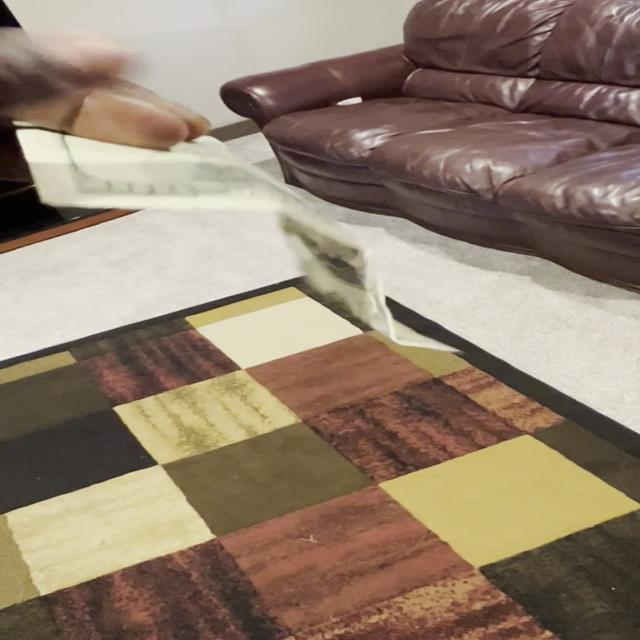hundred: (0, 69, 502, 367)
